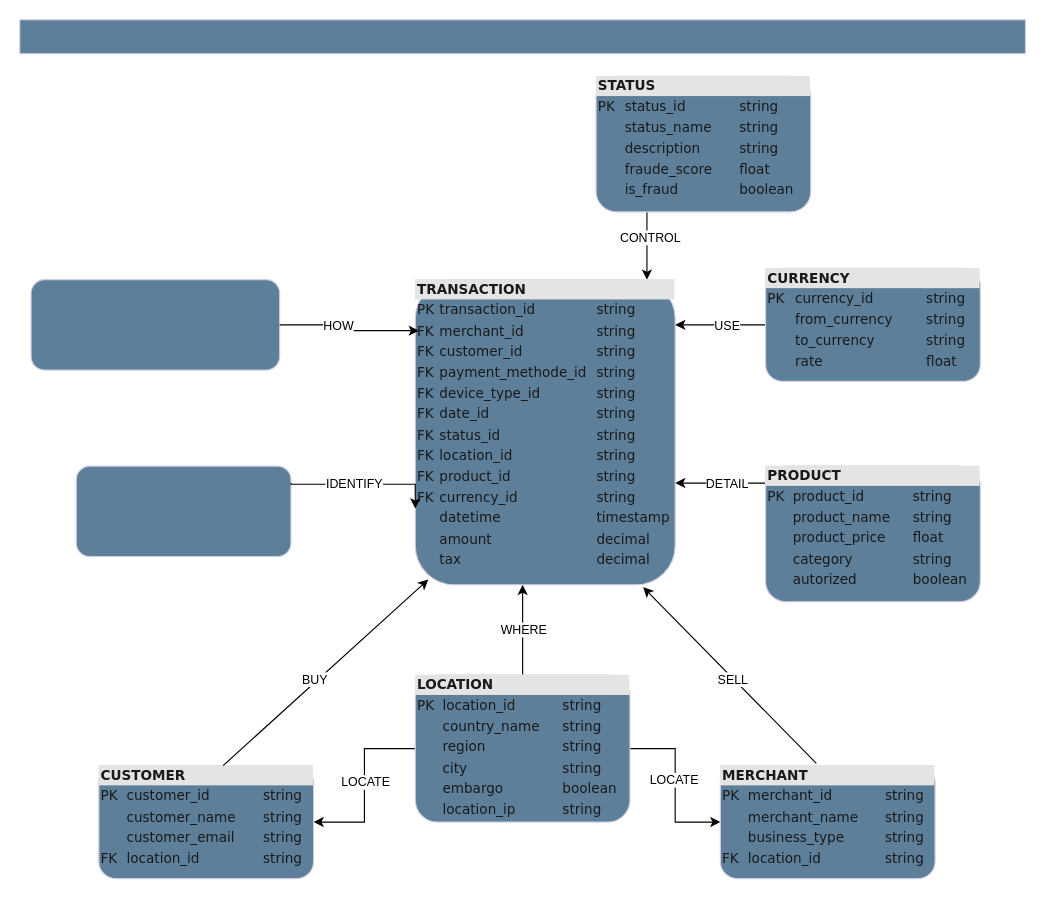
Image size: 1045x898. Some labels were removed from this diagram. The shapes that lost their labels are listed below. From the top down, each one's centre as x and y in pixels, then its label:
At point (522, 36): "STRIPE OLTP".
At point (155, 324): "PAYMENT_METHOD PK payment_method_id string payment_type string provider string".
At point (183, 511): "DEVICE PK device_type_id string device_type string operating_system string".
